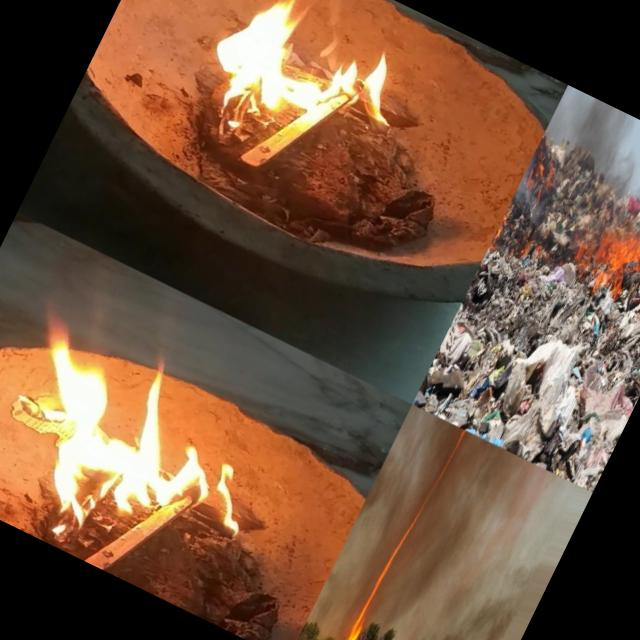fire: (0, 284, 315, 600), (178, 0, 430, 179), (564, 210, 640, 308), (516, 138, 566, 206), (341, 583, 381, 640), (435, 428, 467, 483), (487, 210, 514, 253), (413, 478, 438, 520), (392, 515, 416, 557), (374, 553, 396, 587)
smoke: (376, 431, 579, 640), (306, 404, 448, 640), (546, 96, 640, 235), (405, 422, 460, 518), (366, 556, 404, 622), (383, 629, 434, 640)
